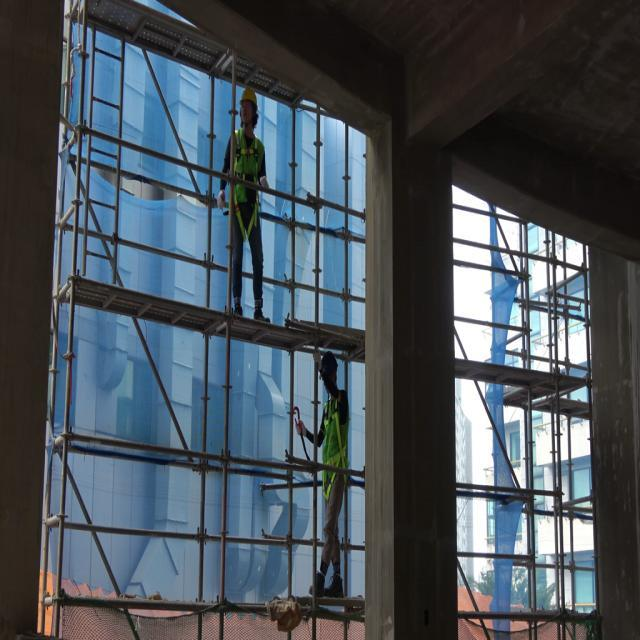belt: (234, 128, 265, 242), (323, 393, 350, 498)
